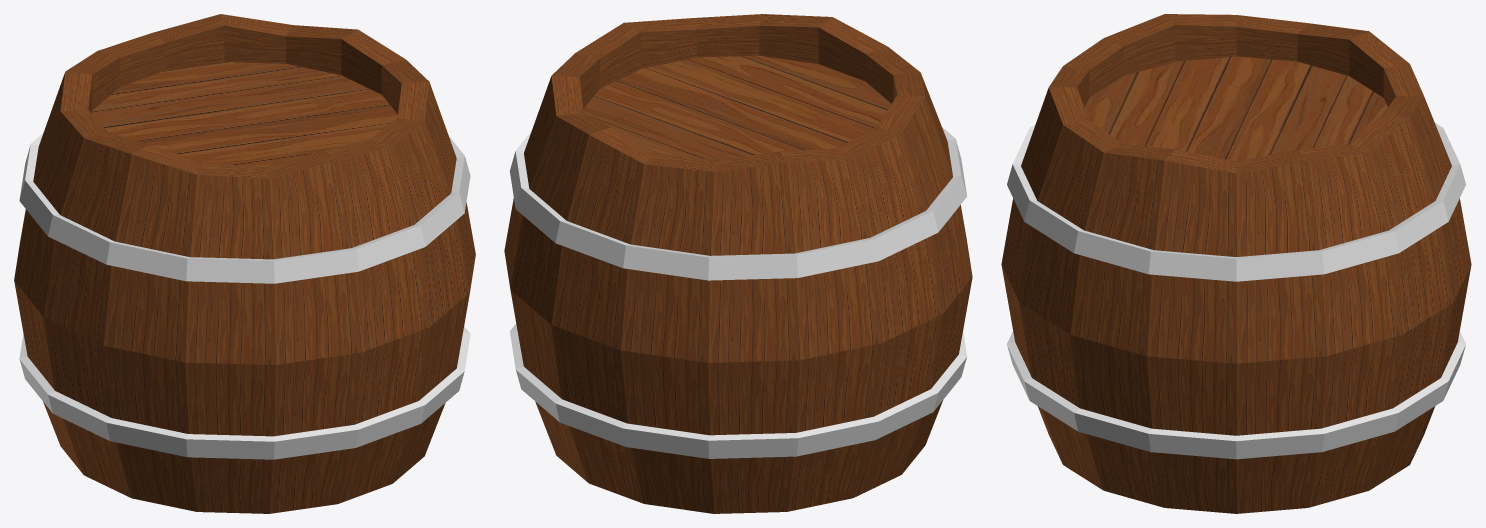
File: barrel.fbx
3 views of the same model, side by side, from view 1: azimuth 30°, elevation 25°; view 2: azimuth 150°, elevation 25°; view 3: azimuth 270°, elevation 25° (orthographic).
Parts seen in each view (by area): view 1: Cylinder; view 2: Cylinder; view 3: Cylinder.
Boxes of the visible parts, left/top/right/bottom form: Cylinder: left=14, top=14, right=475, bottom=513; Cylinder: left=504, top=14, right=972, bottom=513; Cylinder: left=1001, top=14, right=1471, bottom=513.
Bounding box in the file's own units: 759 × 619 × 759.
